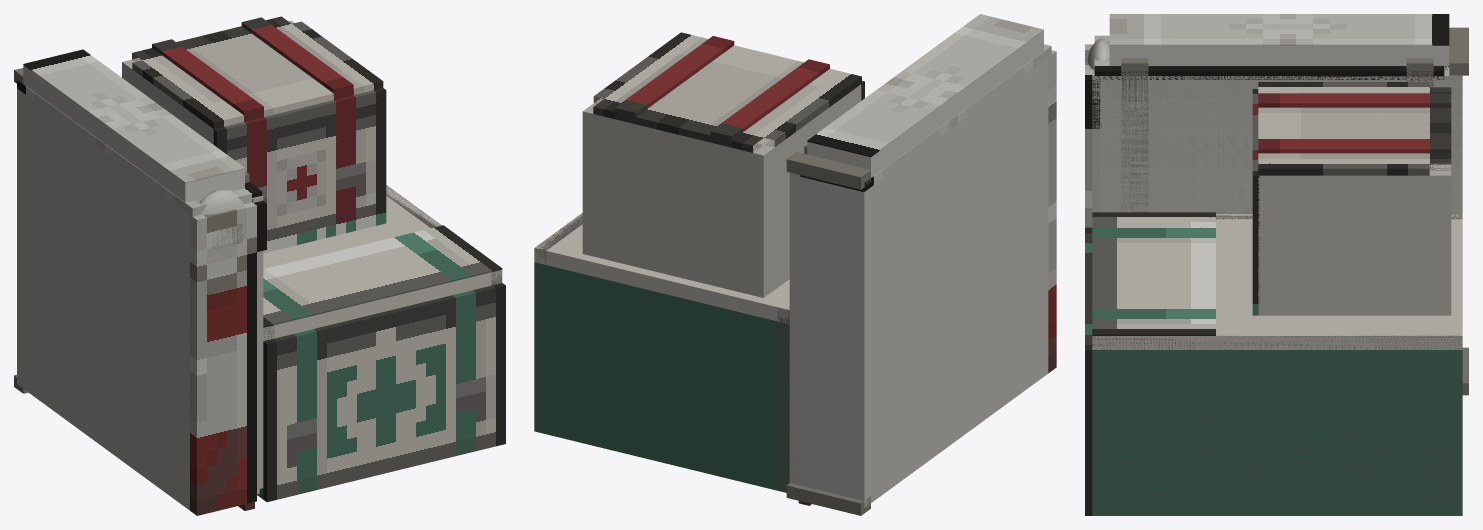
The model's file is CMU3DSectionAU14ContainerTartarusRightMedicalEmptyAlt.glb.
The picture shows the model from 3 angles, left to right: view 1: azimuth 30°, elevation 25°; view 2: azimuth 150°, elevation 25°; view 3: azimuth 270°, elevation 25°; orthographic projection. The views are drawn at different scales.
Visible parts, largest first — view 1: medical crate seam continuation, green case source front and cross, source-painted medical crate face, red medical case front and cross, red medical case lid, green case exposed front lid strip, source-painted locking strap, green medical case lid, raised red case strap (×2), raised medical locking strap, source-painted medical crate lid, outer medical crate end (+2 smaller); view 2: medical crate seam continuation, green medical case body, red medical case body, red medical case lid, source-painted locking strap, green medical case lid, raised red case strap (×2), raised medical locking strap, rear crate frame (×2), green case edge bumper (×2), source-painted medical crate face, source-painted medical crate lid (+1 smaller); view 3: green medical case body, red medical case body, medical crate seam continuation, outer medical crate end, green case edge bumper, green case exposed front lid strip, green medical case lid, red medical case lid, source-painted locking strap, raised medical locking strap, raised red case strap (×2), source-painted medical crate lid (+6 smaller).
Boxes of the visible parts, x1,y1,x2,y2 form: medical crate seam continuation: [17, 88, 259, 510]; green case source front and cross: [263, 283, 505, 502]; source-painted medical crate face: [189, 200, 266, 515]; red medical case front and cross: [213, 88, 386, 253]; red medical case lid: [132, 16, 383, 129]; green case exposed front lid strip: [263, 225, 502, 327]; source-painted locking strap: [23, 49, 244, 183]; green medical case lid: [263, 185, 502, 340]; raised red case strap (×2): [152, 17, 353, 115]; raised medical locking strap: [23, 65, 244, 202]; source-painted medical crate lid: [17, 80, 262, 216]; outer medical crate end: [252, 196, 263, 489]; medical crate seam continuation: [789, 58, 1048, 507]; green medical case body: [534, 262, 789, 492]; red medical case body: [582, 84, 861, 297]; red medical case lid: [593, 32, 861, 152]; source-painted locking strap: [807, 14, 1043, 156]; green medical case lid: [534, 213, 789, 323]; raised red case strap (×2): [614, 36, 829, 140]; raised medical locking strap: [807, 31, 1043, 177]; rear crate frame (×2): [786, 152, 870, 515]; green case edge bumper (×2): [534, 213, 789, 492]; source-painted medical crate face: [1048, 50, 1056, 373]; source-painted medical crate lid: [800, 44, 1051, 191]; green medical case body: [1092, 350, 1462, 515]; red medical case body: [1258, 163, 1451, 315]; medical crate seam continuation: [1100, 66, 1462, 213]; outer medical crate end: [1092, 70, 1462, 213]; green case edge bumper: [1092, 333, 1462, 515]; green case exposed front lid strip: [1092, 212, 1215, 335]; green medical case lid: [1092, 213, 1462, 349]; red medical case lid: [1258, 82, 1451, 175]; source-painted locking strap: [1109, 14, 1449, 45]; raised medical locking strap: [1109, 45, 1449, 65]; raised red case strap (×2): [1258, 93, 1451, 153]; source-painted medical crate lid: [1094, 35, 1449, 79].
Size of the model in its own units: 0.9688 by 1.03 by 0.995.
17 materials, 8 textured.
